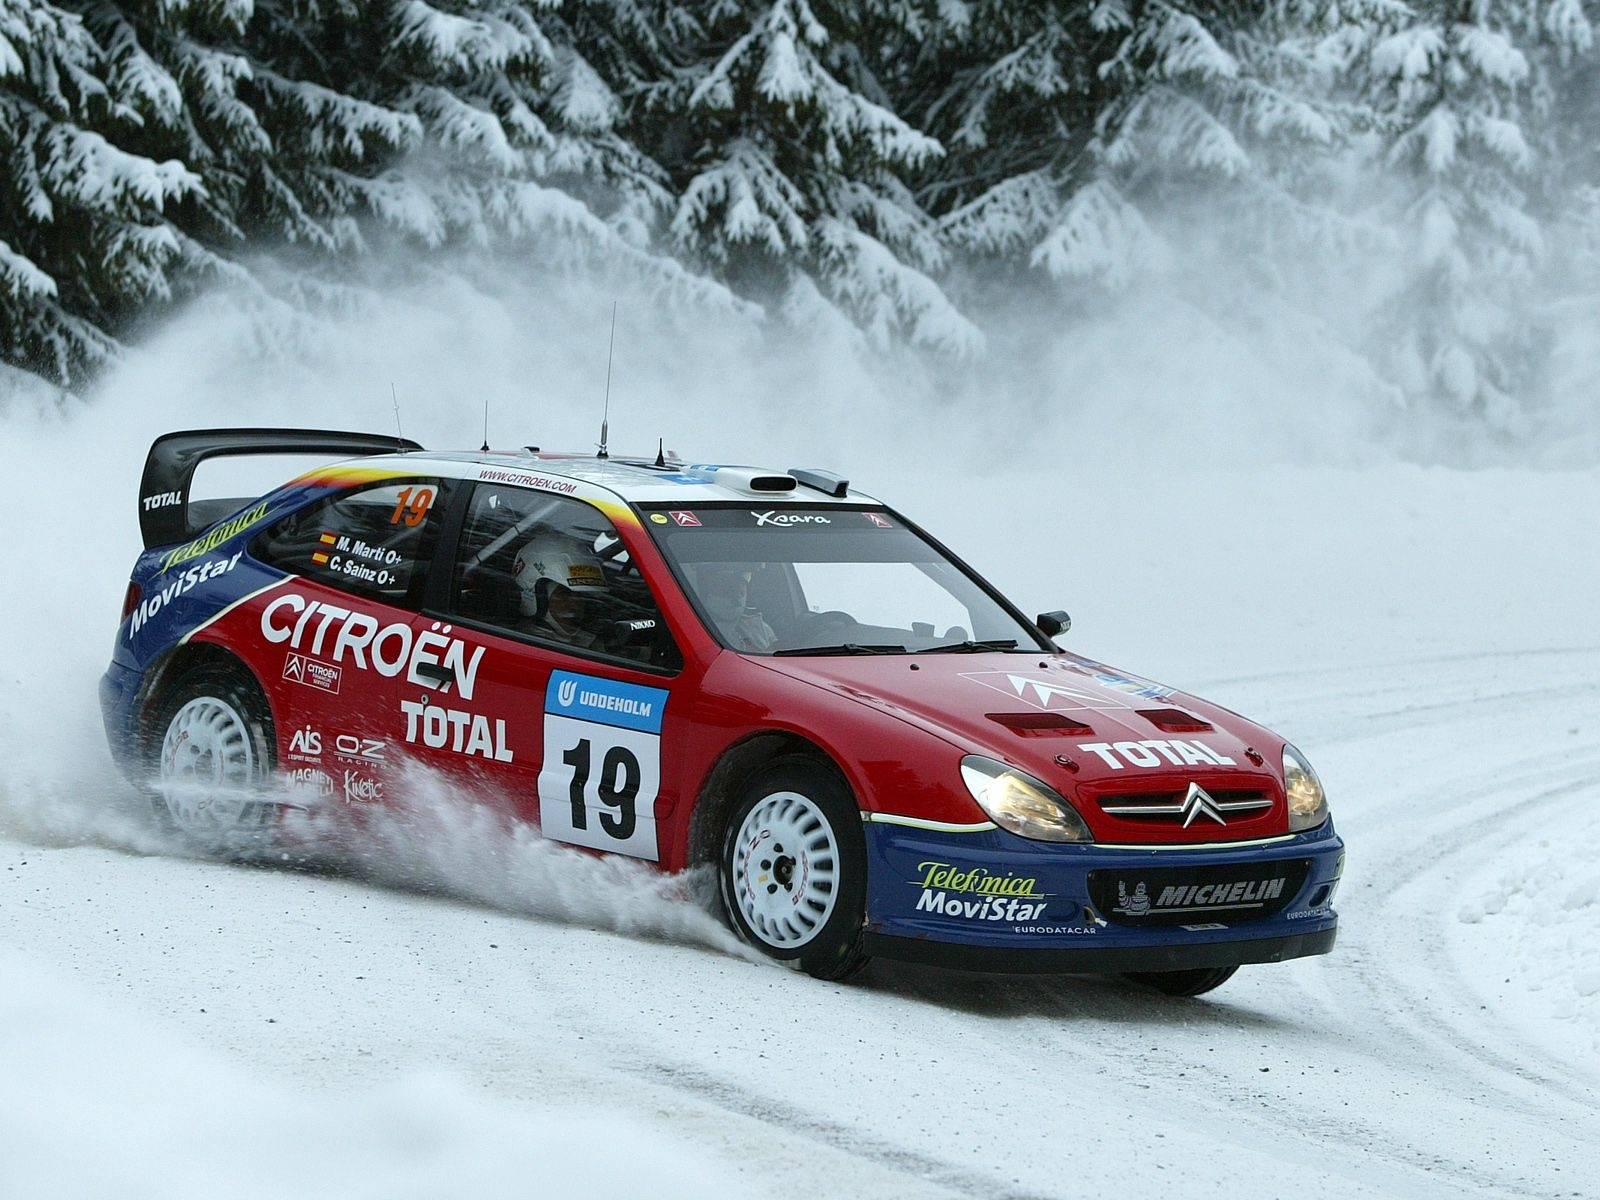racing car: (102, 395, 1448, 1030)
